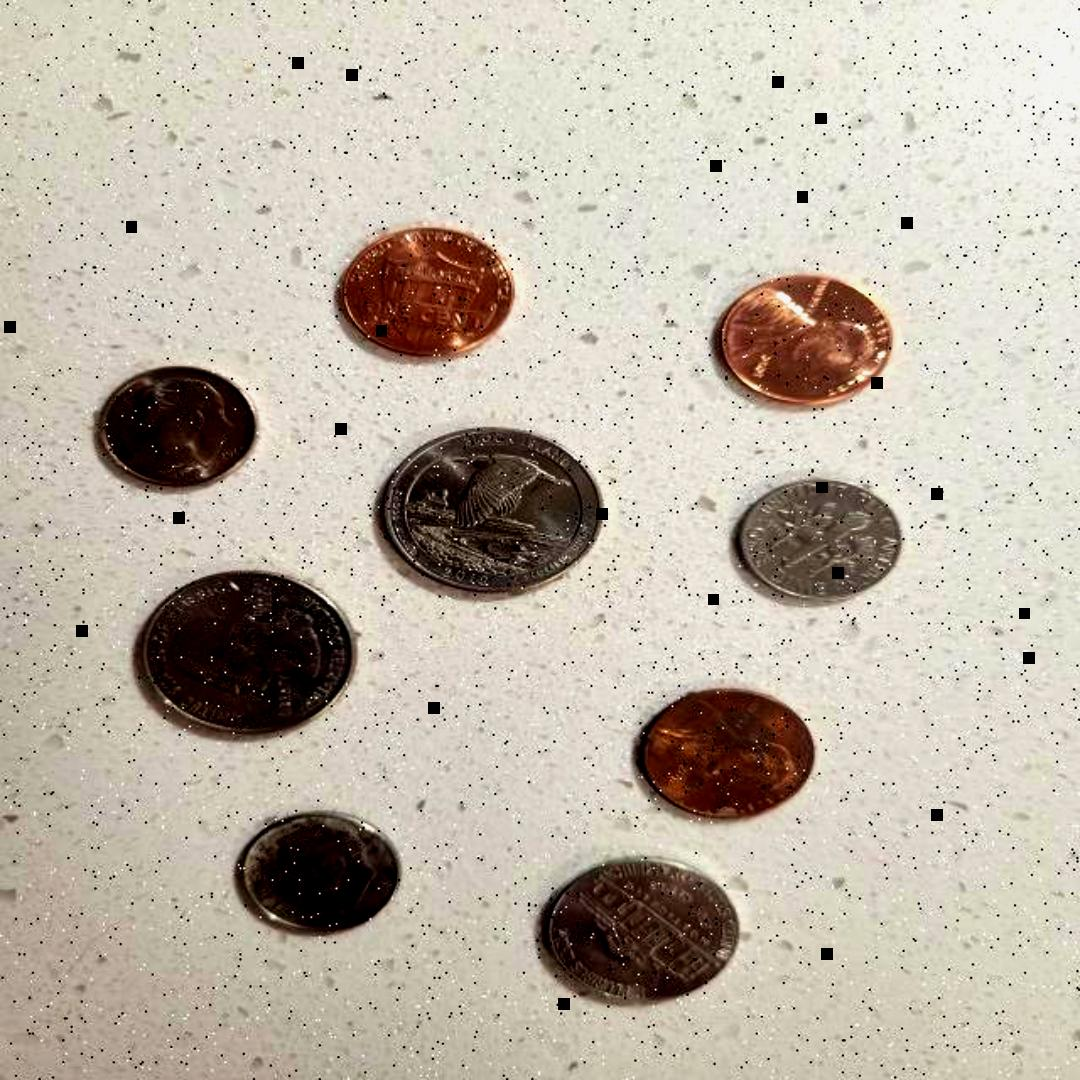Dime: (78, 356, 276, 502), (718, 471, 918, 609), (225, 803, 407, 941)
Nickel: (527, 850, 749, 1014)
Penny: (321, 213, 533, 366), (619, 680, 823, 826), (708, 268, 900, 418)
Quarter: (128, 564, 368, 748), (369, 424, 606, 609)
